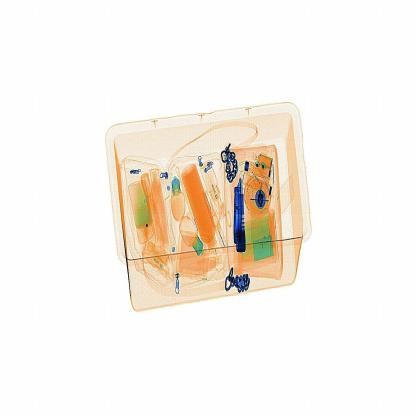pliers: (232, 179, 250, 260)
